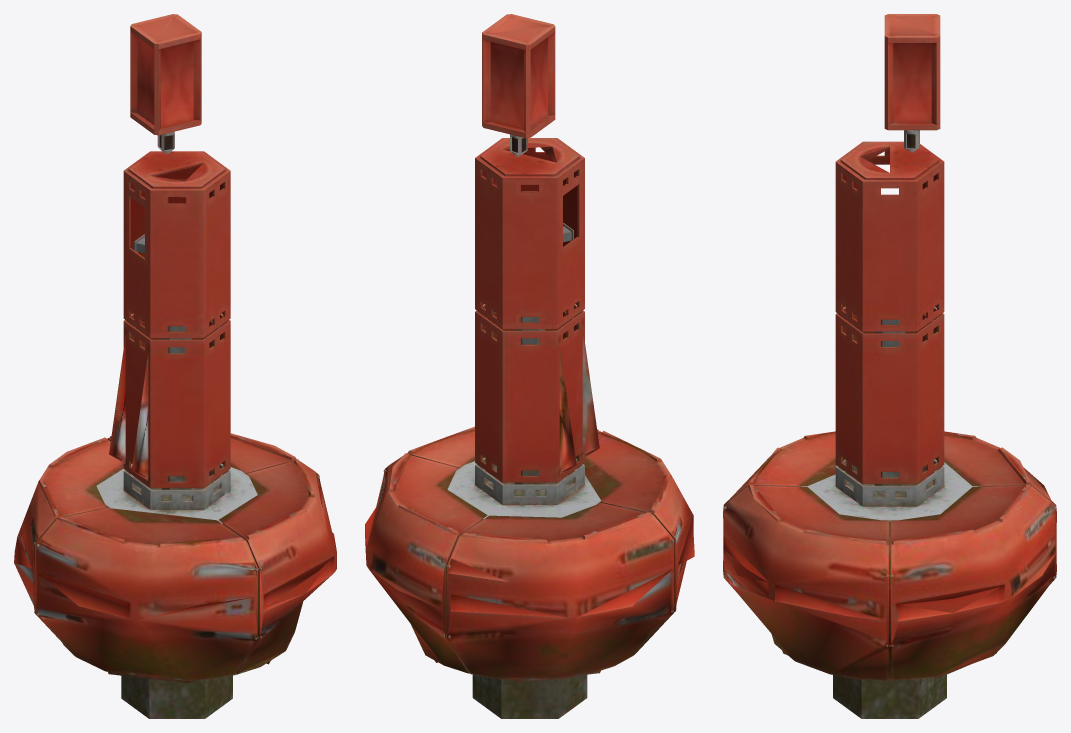
File: seezeichen.glb
3 renders of one model, left to right at view 1: azimuth 30°, elevation 25°; view 2: azimuth 150°, elevation 25°; view 3: azimuth 270°, elevation 25°, orthographic. The views are drawn at different scales.
Parts seen in each view (by area): view 1: lateral_sea_marker; view 2: lateral_sea_marker; view 3: lateral_sea_marker.
Part boxes in pixels (x1,y1,x2,y2): lateral_sea_marker: (14, 14, 336, 718); lateral_sea_marker: (365, 14, 694, 718); lateral_sea_marker: (723, 14, 1056, 718).
Size of the model in its own units: 3 by 6.68 by 3.
1 material, 1 textured.
